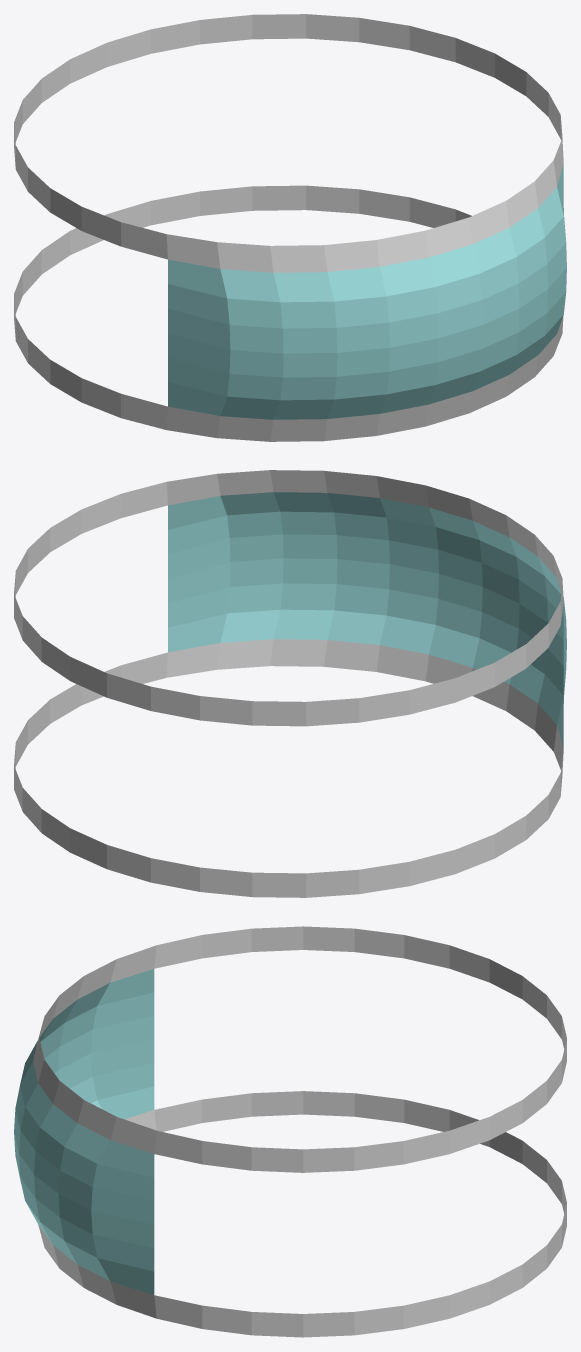
Rendered from Mask.fbx.
3 views of the same model, one above another, from view 1: azimuth 30°, elevation 25°; view 2: azimuth 150°, elevation 25°; view 3: azimuth 270°, elevation 25° (orthographic). The views are drawn at different scales.
Parts seen in each view (by area): view 1: Sphere.001; view 2: Sphere.001; view 3: Sphere.001.
Part boxes in pixels (x1=…): Sphere.001: x1=14, y1=14, x2=566, y2=441; Sphere.001: x1=14, y1=470, x2=566, y2=897; Sphere.001: x1=14, y1=926, x2=566, y2=1337.
Bounding box in the file's own units: 200 × 78.6 × 209.
